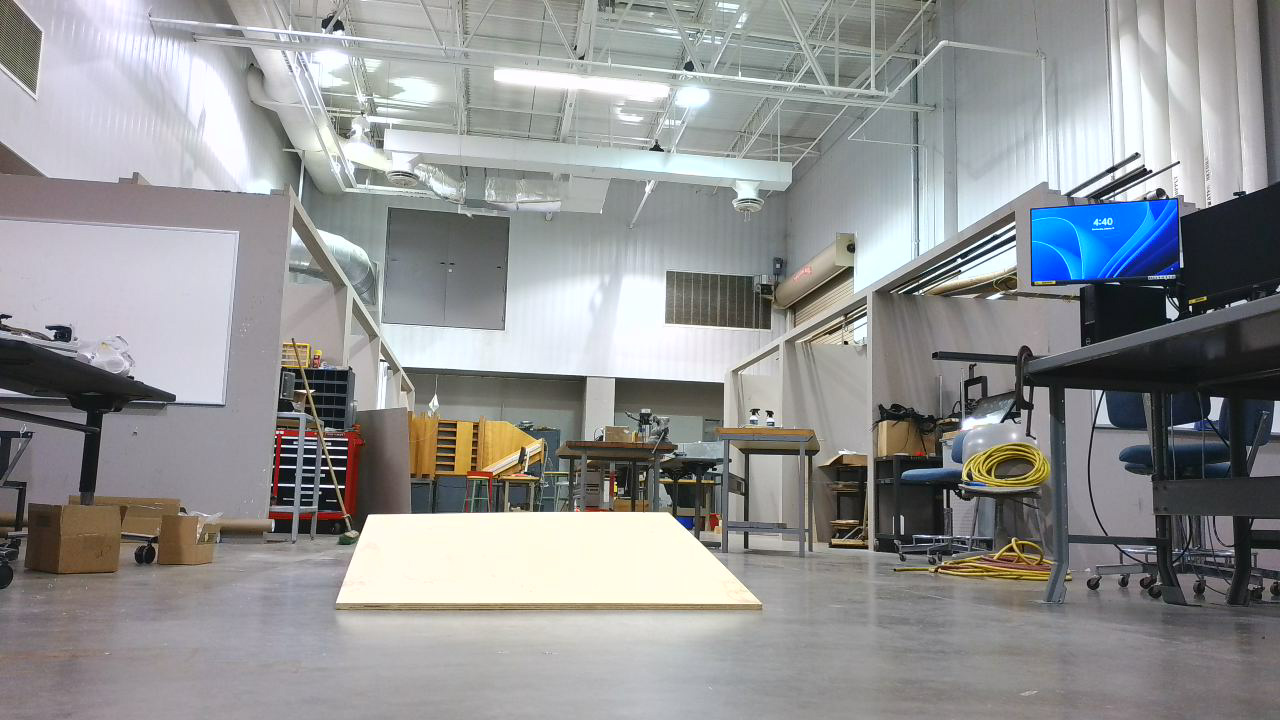ramp: (338, 512, 768, 619)
